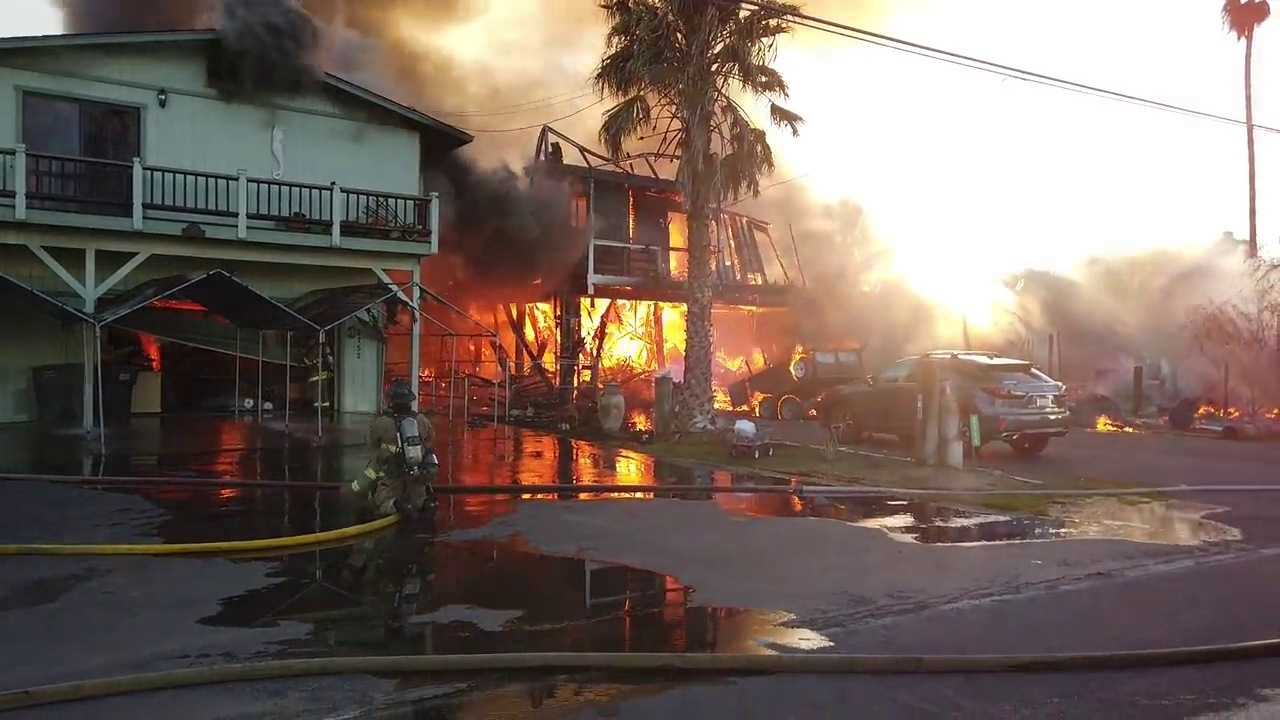fire: (484, 294, 681, 483), (624, 187, 686, 280), (713, 314, 782, 377), (135, 330, 160, 371), (1092, 413, 1139, 430), (1195, 403, 1241, 417), (629, 407, 653, 428), (1259, 402, 1278, 416)
smoke: (419, 4, 593, 283), (997, 227, 1259, 397), (734, 186, 953, 355), (93, 1, 421, 108)
